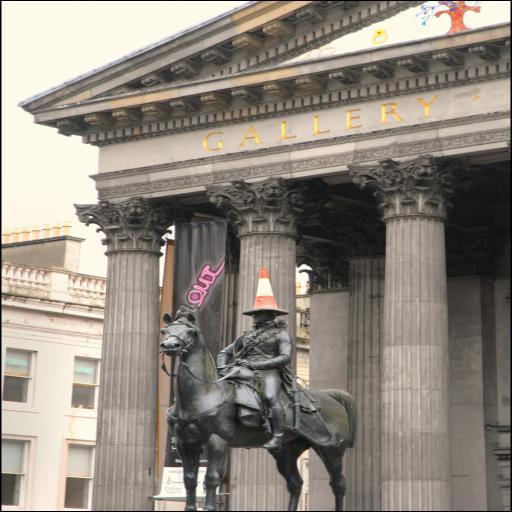horse: (156, 310, 360, 512)
